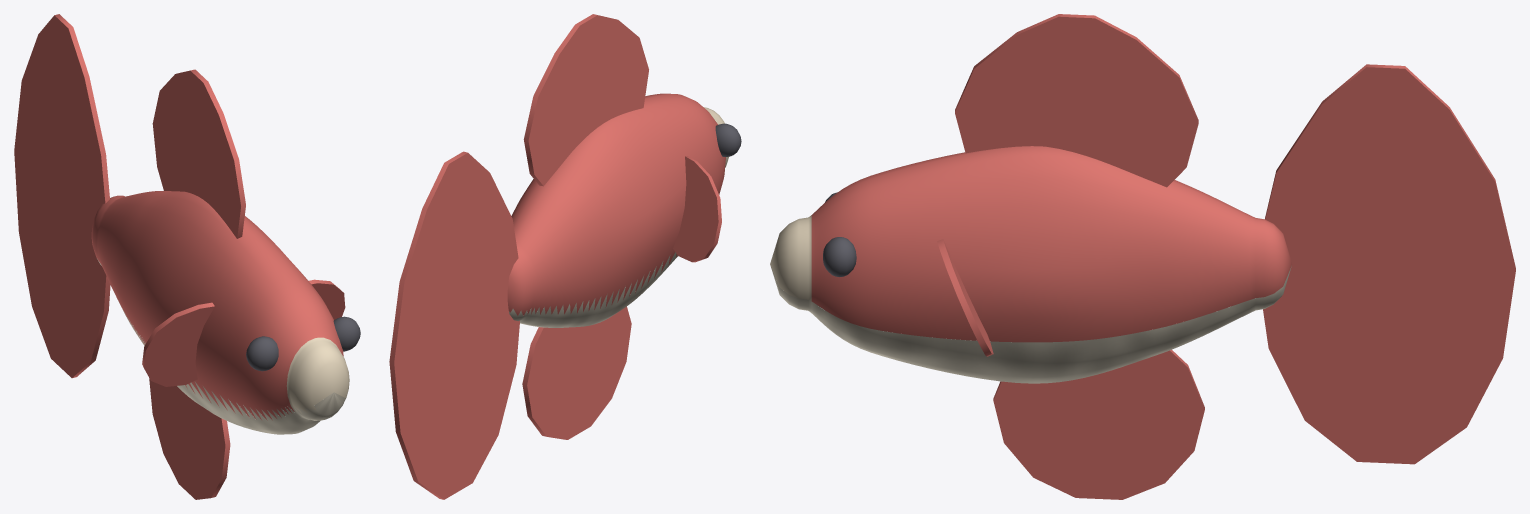
File: pets-and-companions-hd-betta-fish-6b408ac9__28163.glb
3 views of the same model, side by side, from view 1: azimuth 30°, elevation 25°; view 2: azimuth 150°, elevation 25°; view 3: azimuth 270°, elevation 25° (orthographic). The views are drawn at different scales.
Parts seen in each view (by area): view 1: betta-fish; view 2: betta-fish; view 3: betta-fish.
Part boxes in pixels (box(x1,y1,x2,y2)): betta-fish: box(14, 14, 360, 499); betta-fish: box(389, 14, 741, 499); betta-fish: box(770, 14, 1515, 499).
Size of the model in its own units: 0.0634 by 0.1307 by 0.1835.
Materials: 4 (1 with a texture image).
